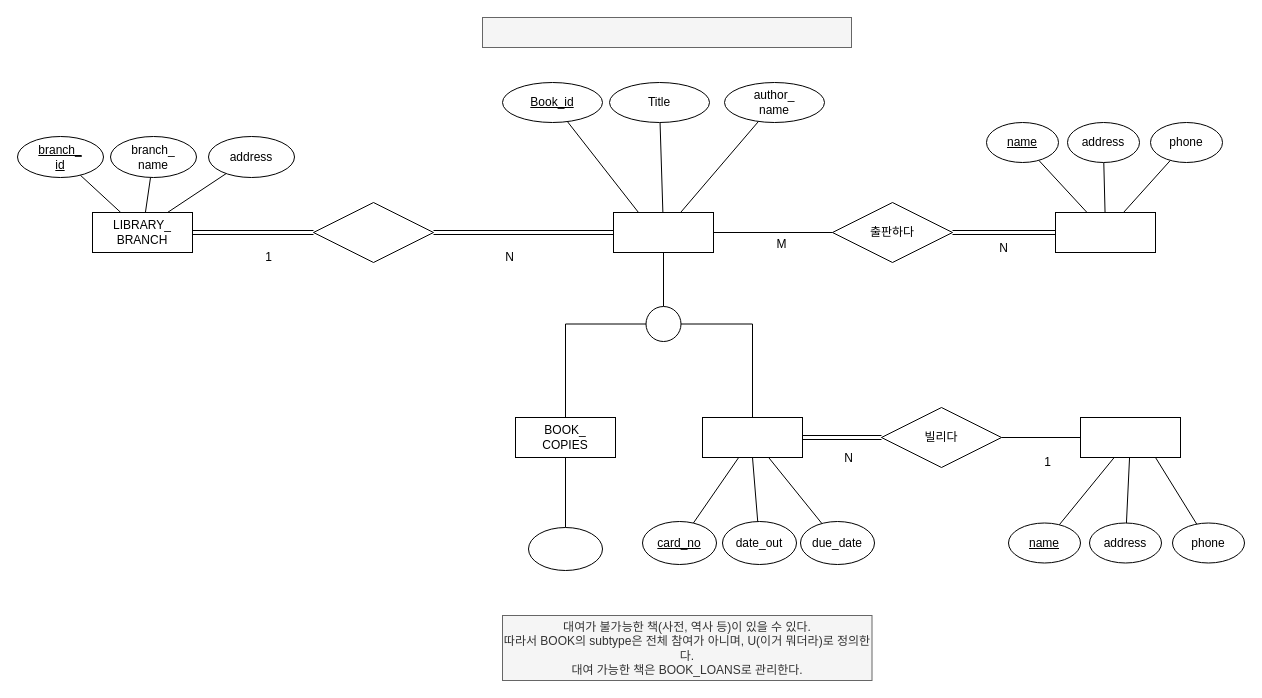
Image size: 1262x698. Some labels were removed from this diagram. The box of each missing label's shape, as (x1, y1, x2, y2) in pixels:
BOOK: (612, 212, 714, 252)
BOOK_ LOANS: (702, 416, 802, 458)
BORROWER: (1080, 416, 1180, 458)
no_of_copies: (528, 526, 602, 570)
PUBLISHER: (1054, 212, 1156, 252)
보유하다: (312, 202, 434, 262)
해당 설계에서의 BOOK은 모두 도서관 정보에 해당하는 책이므로 전체참여로 정의한다.: (482, 16, 852, 48)
